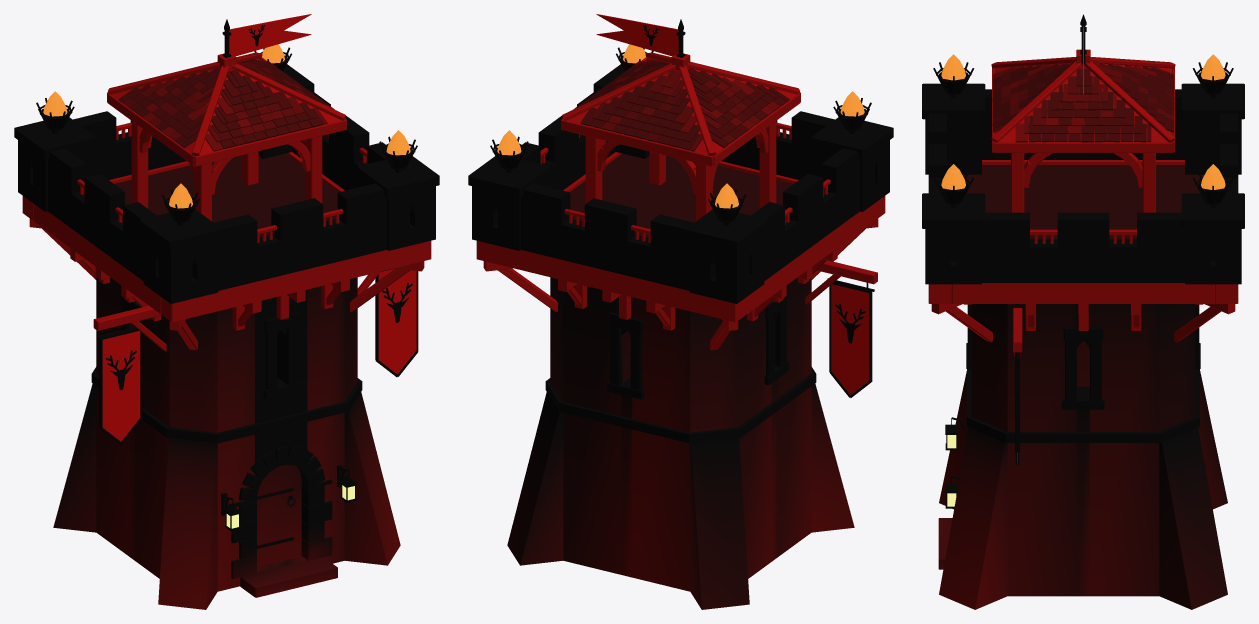
Rendered from SilverbrookWatchtower.fbx.
The picture shows the model from 3 angles, left to right: view 1: azimuth 30°, elevation 25°; view 2: azimuth 150°, elevation 25°; view 3: azimuth 270°, elevation 25°; orthographic projection. The views are drawn at different scales.
Parts seen in each view (by area): view 1: SM_SBWatchtower_Masonry, SM_SBWatchtower_Timber, SM_SBWatchtower_Details, SM_SBWatchtower_Roof; view 2: SM_SBWatchtower_Masonry, SM_SBWatchtower_Timber, SM_SBWatchtower_Roof, SM_SBWatchtower_Details; view 3: SM_SBWatchtower_Masonry, SM_SBWatchtower_Timber, SM_SBWatchtower_Roof, SM_SBWatchtower_Details.
Part boxes in pixels (x1,y1,x2,y2): SM_SBWatchtower_Masonry: [14, 64, 439, 609]; SM_SBWatchtower_Timber: [22, 52, 431, 351]; SM_SBWatchtower_Details: [36, 14, 418, 566]; SM_SBWatchtower_Roof: [111, 58, 341, 154]; SM_SBWatchtower_Masonry: [468, 64, 893, 609]; SM_SBWatchtower_Timber: [476, 52, 885, 350]; SM_SBWatchtower_Roof: [566, 58, 796, 154]; SM_SBWatchtower_Details: [490, 14, 874, 397]; SM_SBWatchtower_Masonry: [922, 83, 1244, 609]; SM_SBWatchtower_Timber: [928, 49, 1238, 356]; SM_SBWatchtower_Roof: [992, 63, 1174, 142]; SM_SBWatchtower_Details: [933, 14, 1233, 508].
Size of the model in its own units: 590 by 896 by 490.
